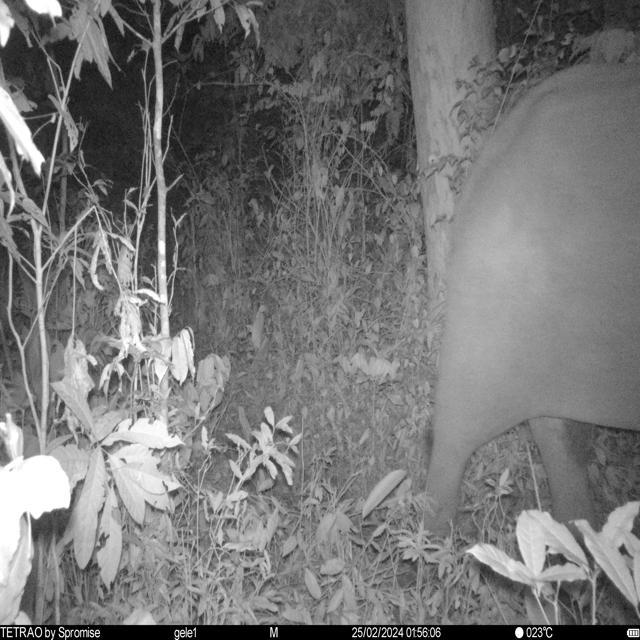elephant: (425, 64, 640, 534)
